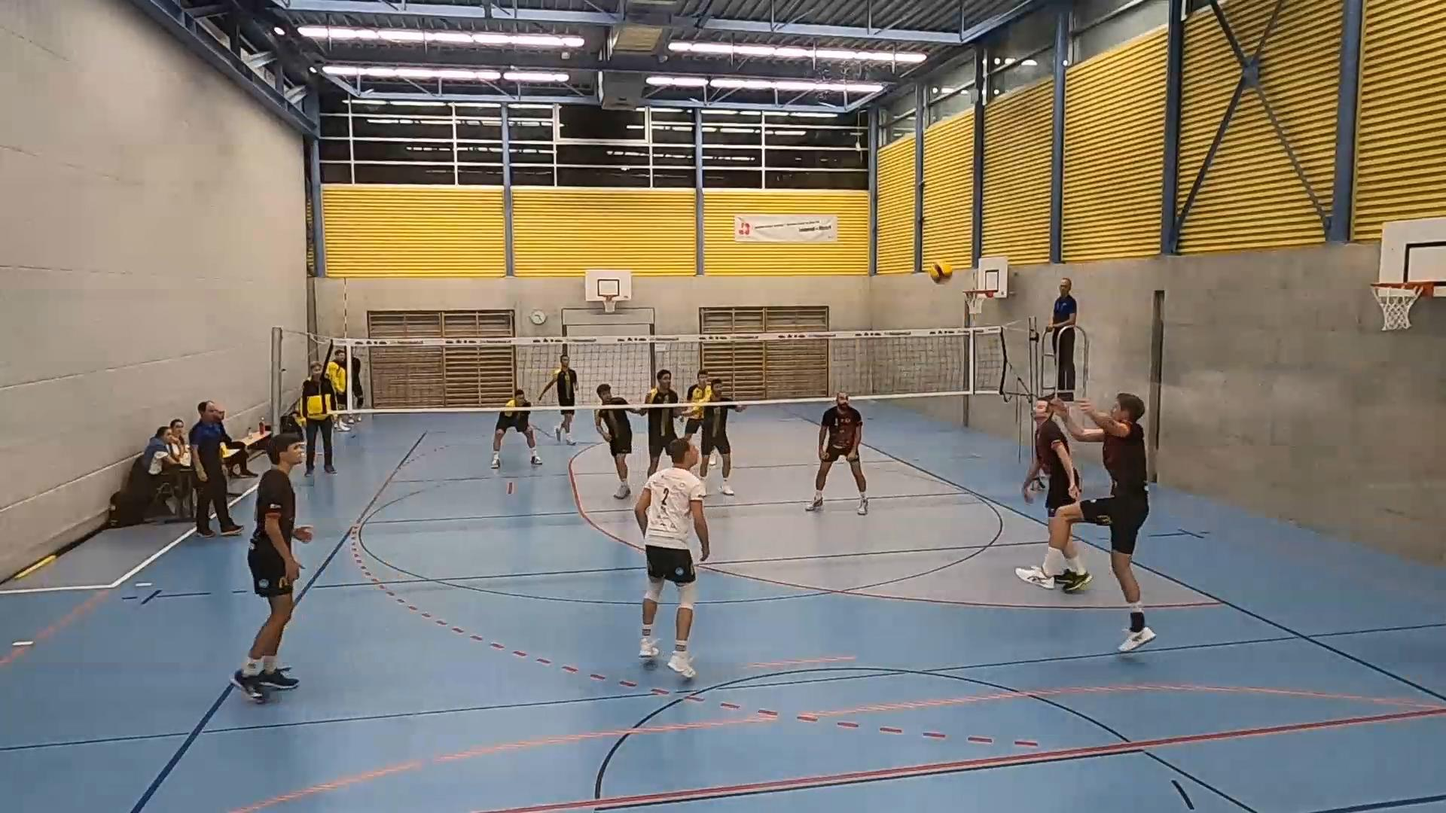Player: (232, 434, 311, 702), (635, 439, 709, 678), (806, 392, 868, 515), (1023, 398, 1080, 517), (699, 377, 746, 495), (595, 383, 641, 498), (491, 389, 541, 468), (538, 353, 577, 444), (646, 406, 676, 477), (684, 370, 710, 440)
Receive: (1005, 390, 1161, 664)
ball: (929, 261, 956, 281)
